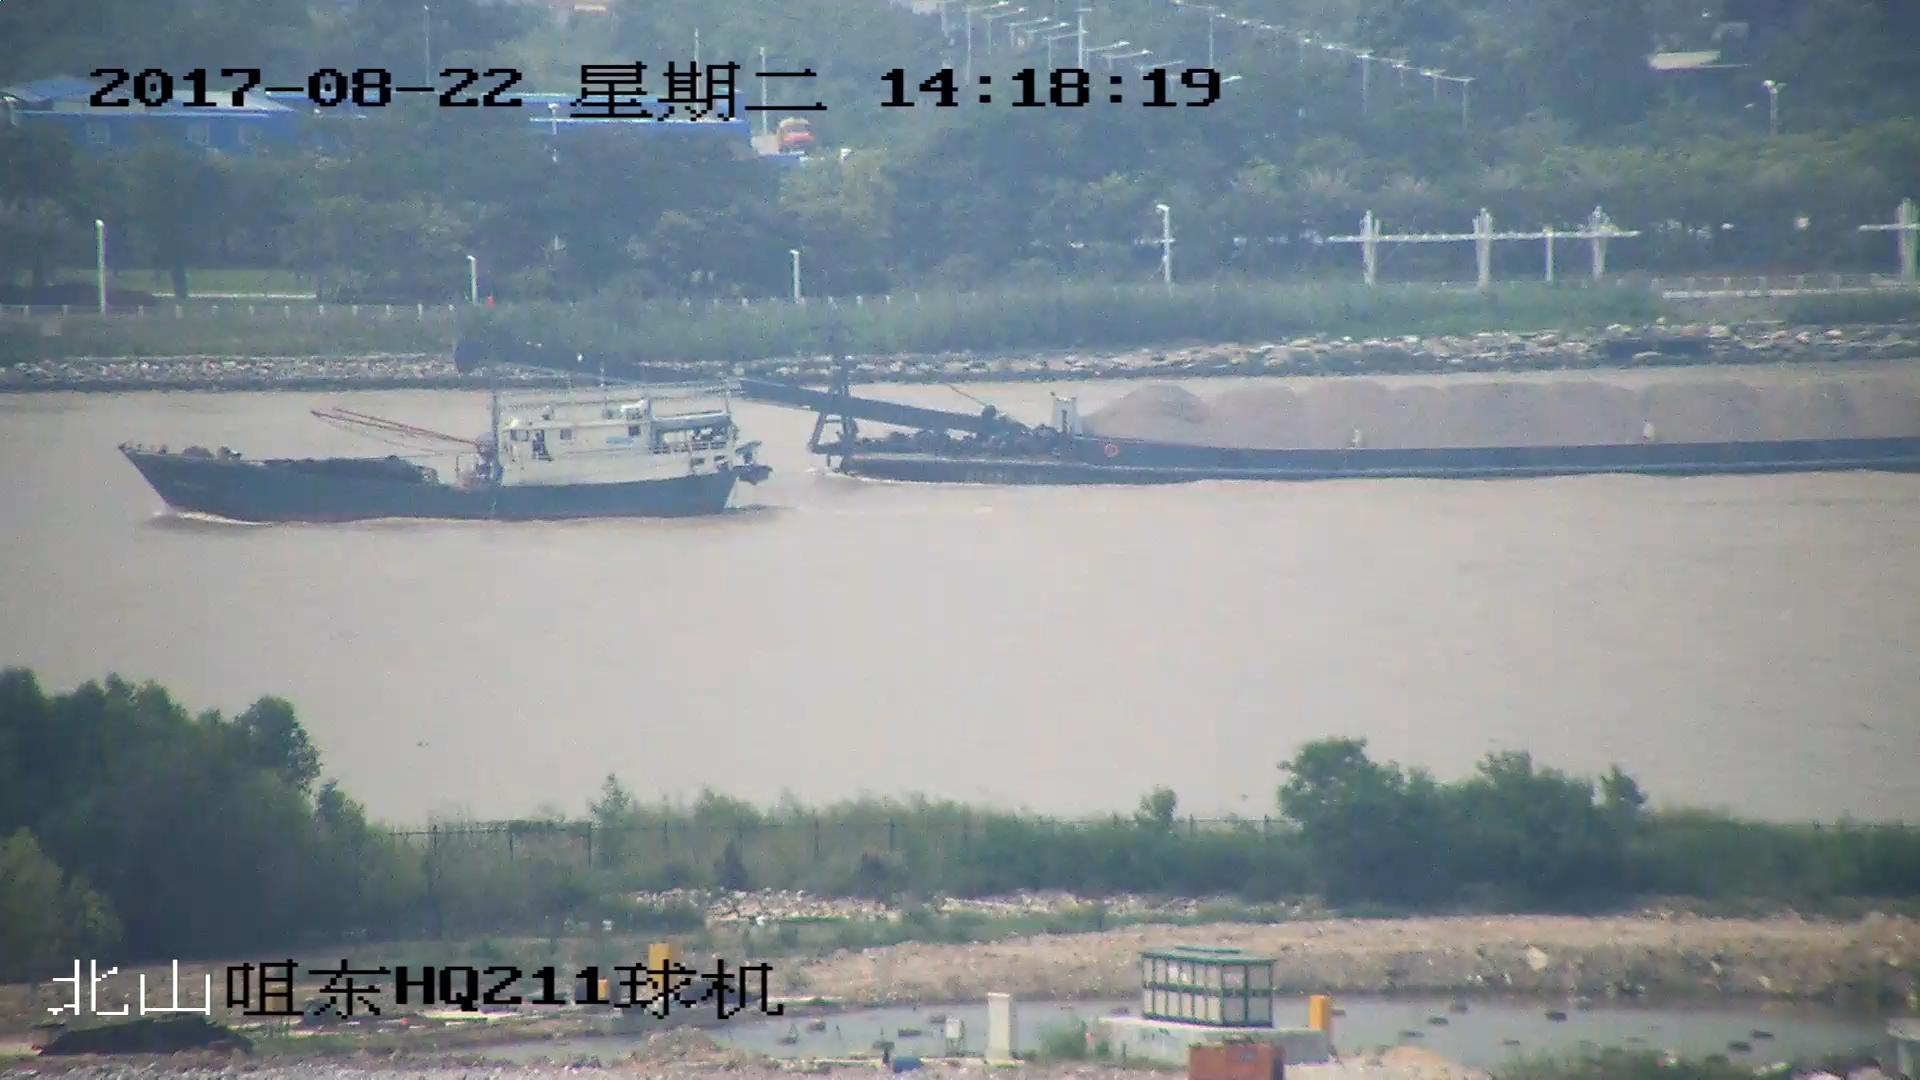Ship: (458, 328, 1920, 483), (123, 298, 773, 521)
